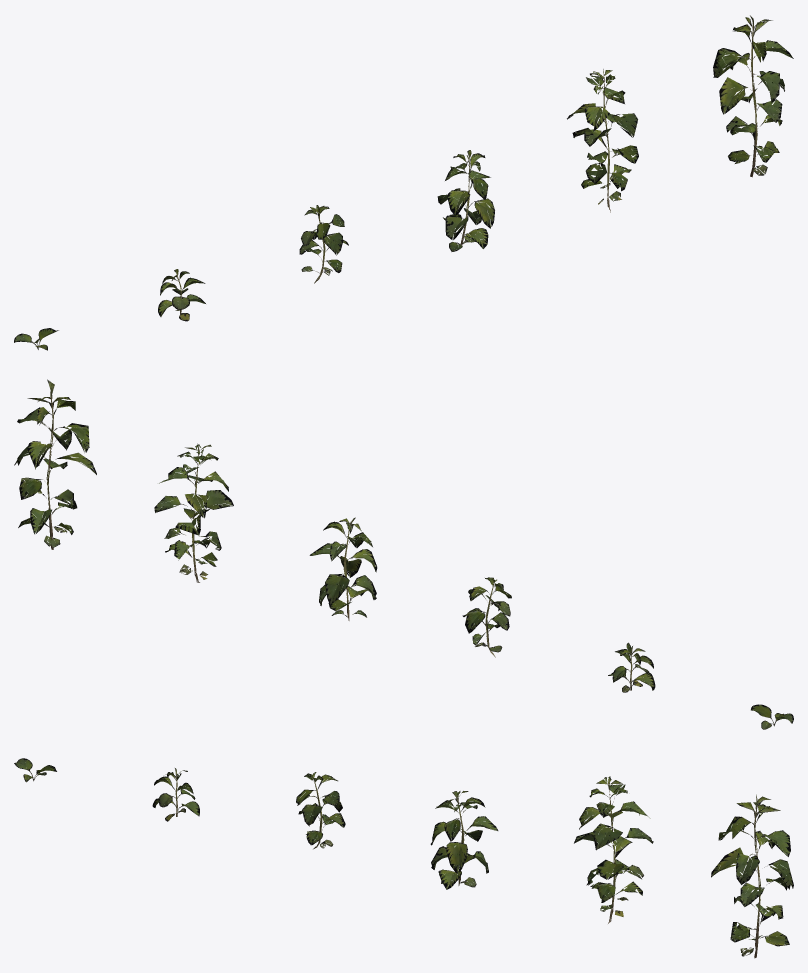
File: nettle_plant.glb
3 views of the same model, one above another, from view 1: azimuth 30°, elevation 25°; view 2: azimuth 150°, elevation 25°; view 3: azimuth 330°, elevation 25° (orthographic).
Parts seen in each view (by area): view 1: nettle_plant_tall_a_LOD0, nettle_plant_tall_b_LOD0, nettle_plant_medium_a_LOD0, nettle_plant_medium_b_LOD0, nettle_plant_small_a_LOD0; view 2: nettle_plant_tall_a_LOD0, nettle_plant_tall_b_LOD0, nettle_plant_medium_a_LOD0, nettle_plant_medium_b_LOD0, nettle_plant_small_a_LOD0; view 3: nettle_plant_tall_a_LOD0, nettle_plant_tall_b_LOD0, nettle_plant_medium_a_LOD0, nettle_plant_medium_b_LOD0, nettle_plant_small_a_LOD0.
Part boxes in pixels (x1,y1,x2,y2): nettle_plant_tall_a_LOD0: [713, 15, 793, 177]; nettle_plant_tall_b_LOD0: [567, 69, 638, 212]; nettle_plant_medium_a_LOD0: [437, 150, 494, 251]; nettle_plant_medium_b_LOD0: [299, 205, 348, 283]; nettle_plant_small_a_LOD0: [158, 269, 205, 321]; nettle_plant_tall_a_LOD0: [14, 379, 96, 549]; nettle_plant_tall_b_LOD0: [154, 443, 233, 582]; nettle_plant_medium_a_LOD0: [309, 517, 377, 620]; nettle_plant_medium_b_LOD0: [462, 577, 511, 657]; nettle_plant_small_a_LOD0: [608, 642, 655, 692]; nettle_plant_tall_a_LOD0: [711, 794, 793, 958]; nettle_plant_tall_b_LOD0: [574, 776, 653, 923]; nettle_plant_medium_a_LOD0: [430, 791, 498, 889]; nettle_plant_medium_b_LOD0: [296, 772, 345, 849]; nettle_plant_small_a_LOD0: [152, 768, 199, 821].
Size of the model in its own units: 1.08 by 0.2166 by 0.0964.
Materials: 1 (1 with a texture image).
